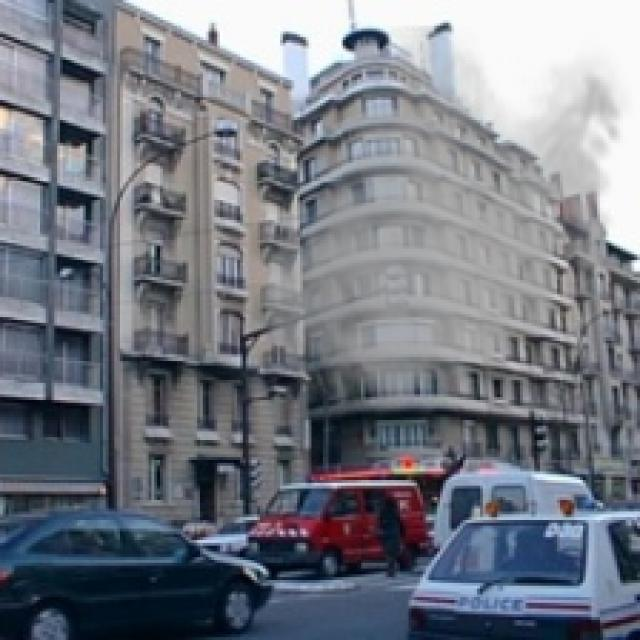smoke: (252, 26, 634, 426)
